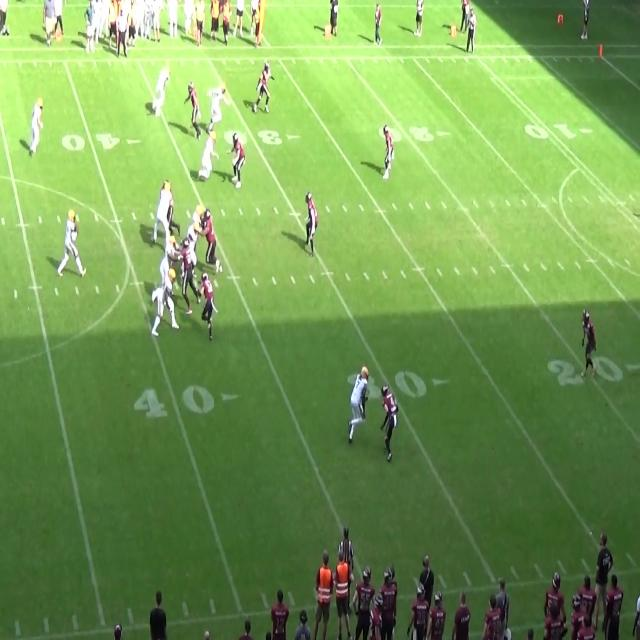2: (545, 357, 584, 388)
4: (132, 381, 170, 424)
american-football-players: (345, 361, 370, 447), (151, 268, 176, 350), (60, 211, 85, 282), (200, 208, 225, 274), (198, 270, 218, 342), (380, 386, 397, 461), (179, 238, 196, 309), (156, 176, 174, 242), (197, 124, 217, 183), (254, 62, 275, 118), (582, 311, 598, 380), (28, 98, 44, 162), (303, 190, 319, 253), (228, 134, 246, 188), (161, 234, 180, 284), (153, 66, 170, 115), (186, 85, 201, 135), (210, 82, 226, 128), (187, 222, 201, 271), (380, 126, 392, 180), (190, 201, 203, 232)
